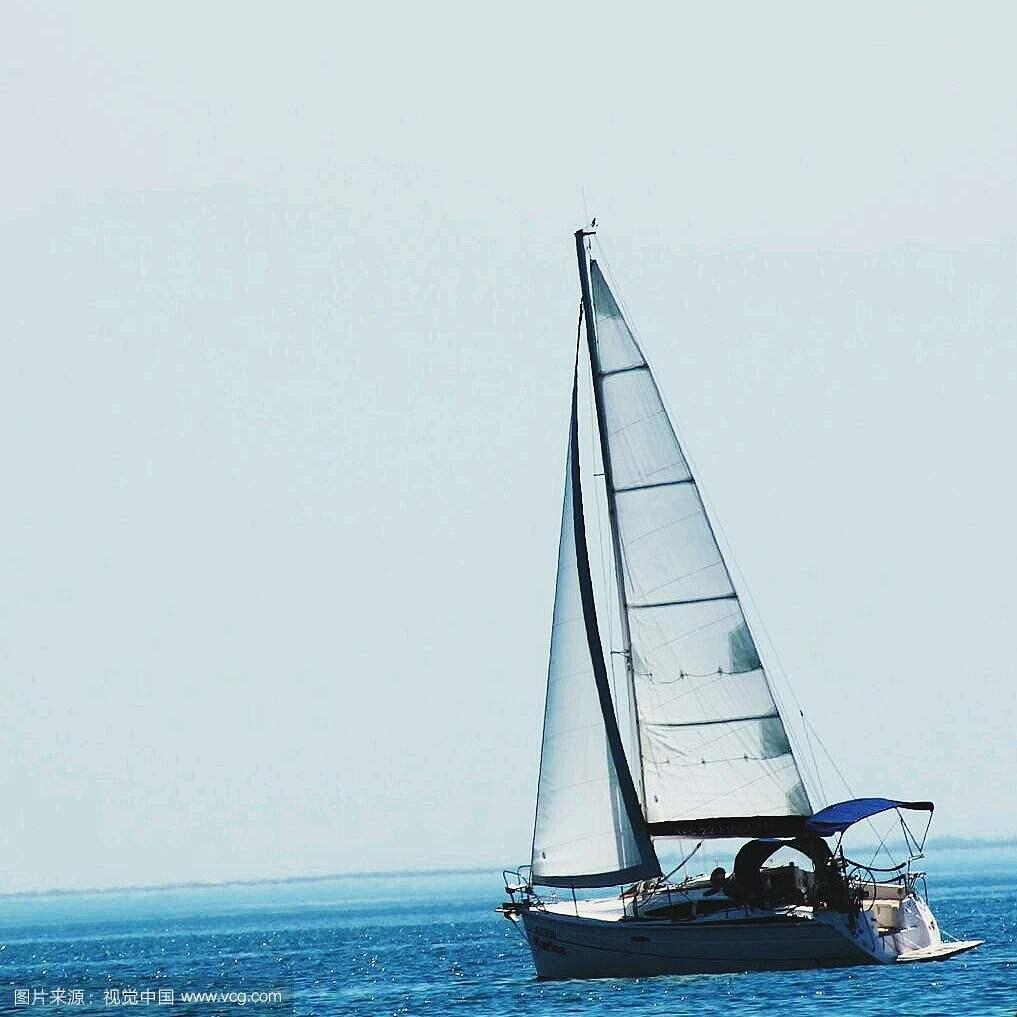fanchuan: (492, 209, 979, 971)
